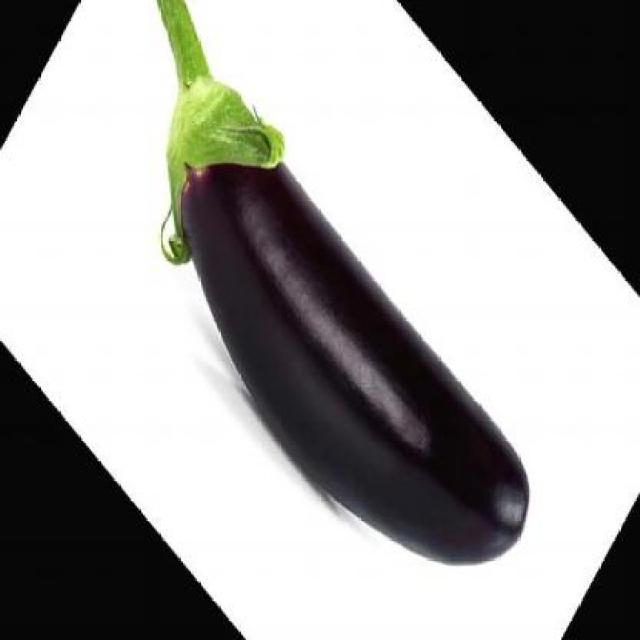eggplant: (58, 0, 564, 638)
